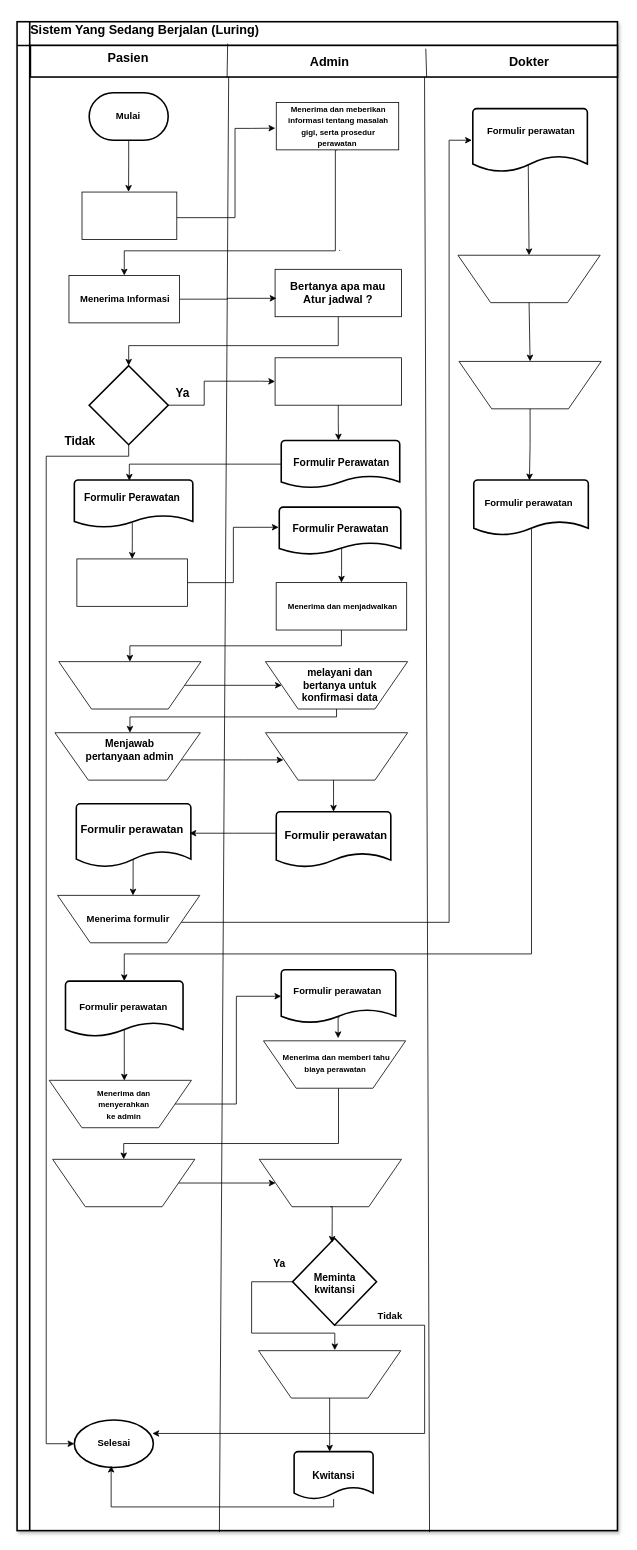
The diagram is 637 pixels wide and 1550 high, and some of its shapes have lost their labels. Here are the shapes that lost their labels. From the top down, the centre of each, then its label:
pixel 129 215: Chat ke Wa menanyakan masalah gigi
pixel 528 278: Menerima formulir dan memberikan perawatan
pixel 337 381: Memberikan Informasi Jadwal Yang Tersedia
pixel 529 385: Dokter menambahkan kondisi gigi, serta biaya perawatan
pixel 128 405: Mau dijadwalkan ?
pixel 131 582: Menerima dan mengisi formulir atur jadwal
pixel 129 685: Datang sesuai jadwal
pixel 336 756: Memberikan formulir perawatan ke pasien
pixel 123 1183: Melakukan pembayaran
pixel 329 1183: Menerima pembayaran
pixel 329 1374: Membuatkan Kwitansi
